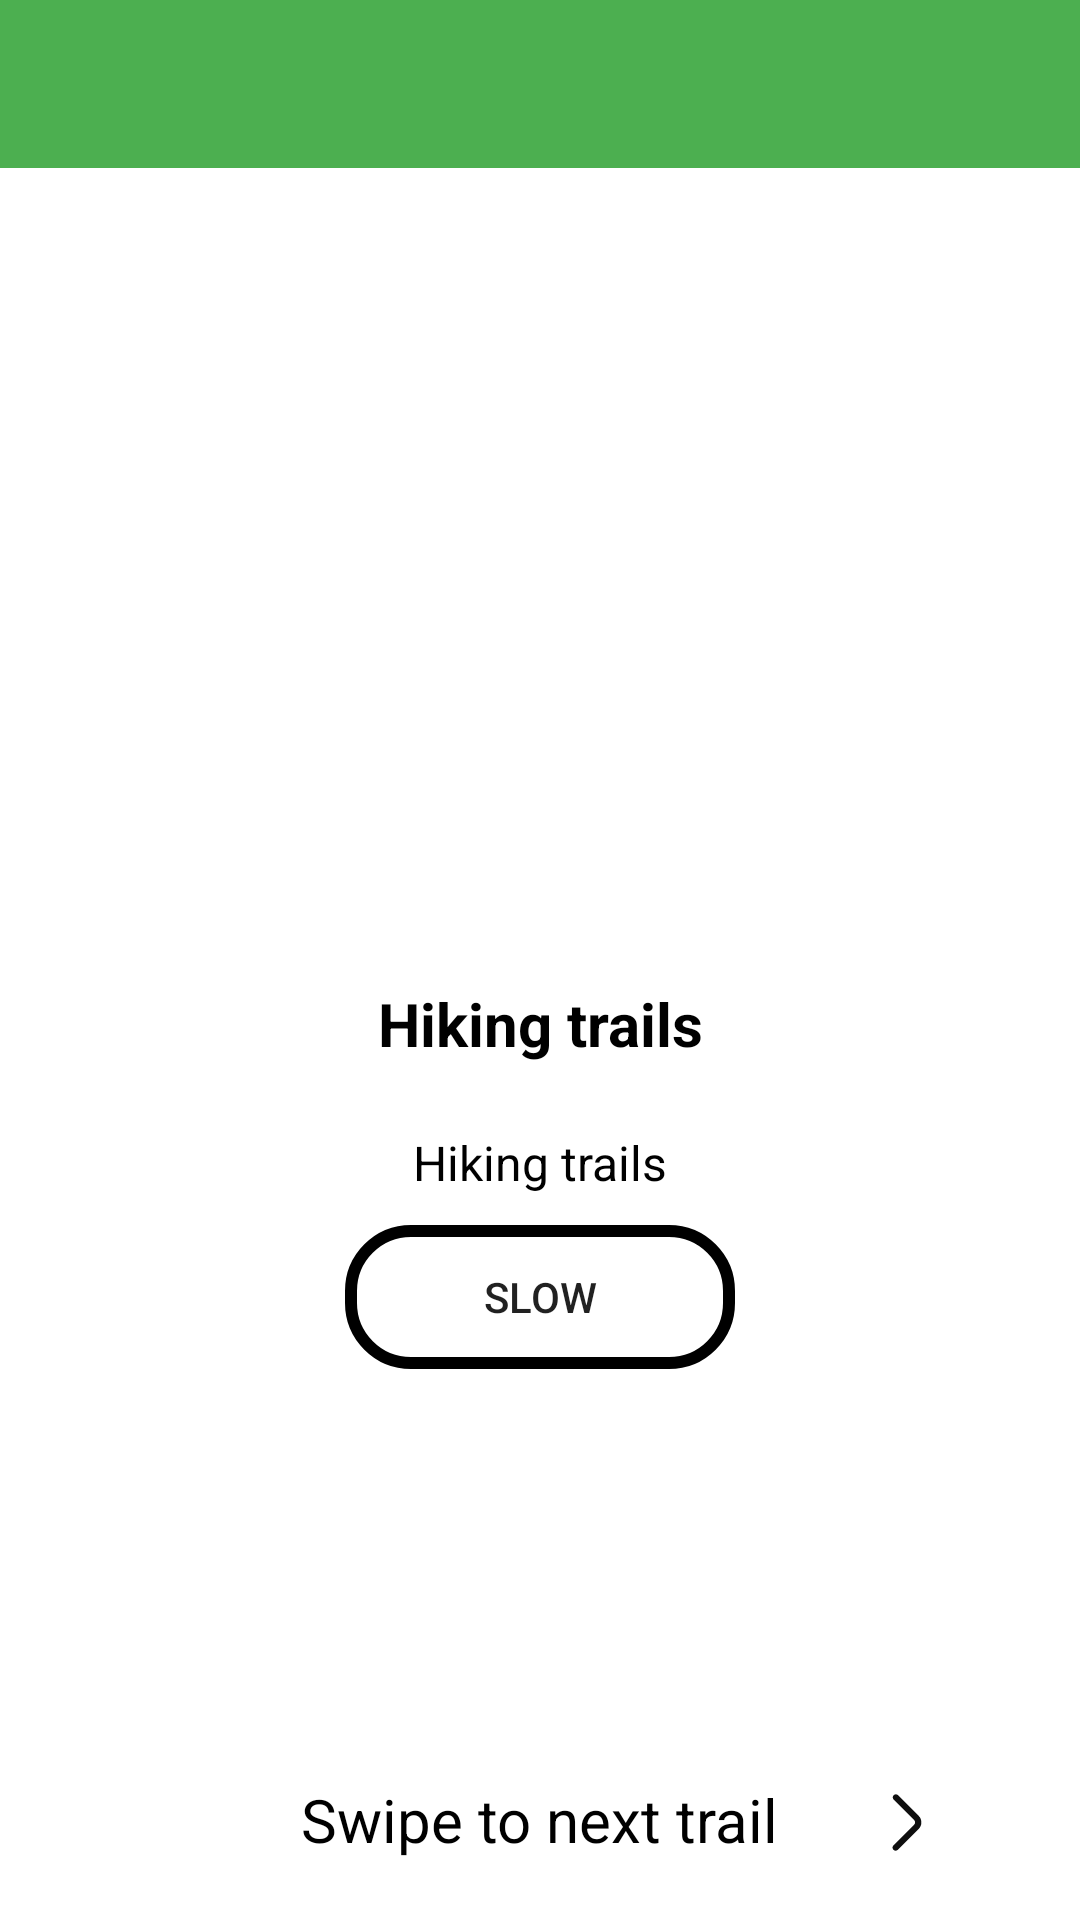

Where icons sit on this 1080w x 1920h app screen, as (x1, y1, x2, y2):
swipe arrow right: (892, 1794, 922, 1851)
